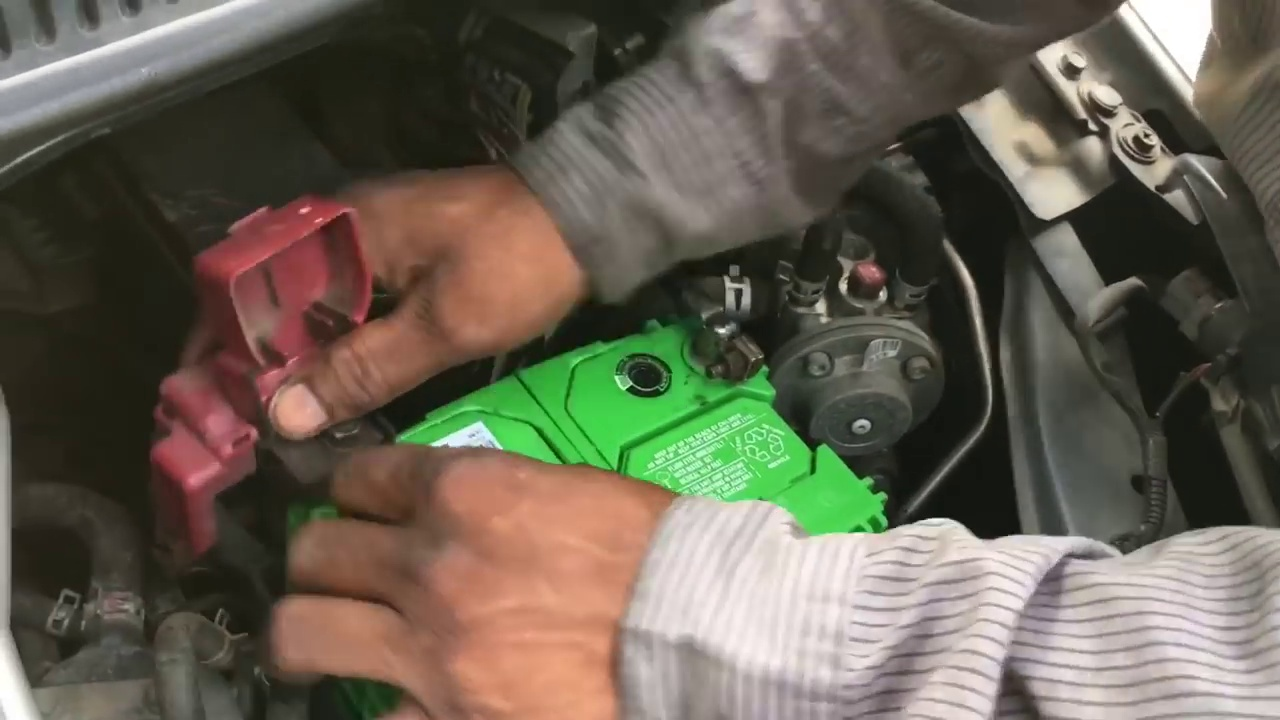battery: (223, 260, 918, 548)
neg_connected: (639, 252, 771, 414)
pos_touched: (219, 272, 475, 624)
